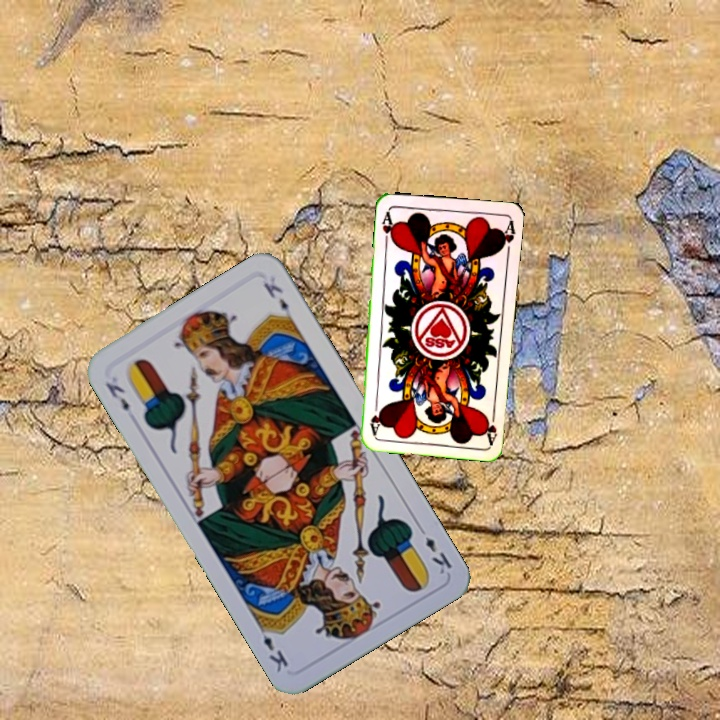EK: (414, 521, 454, 577), (101, 378, 132, 414)
HA: (480, 405, 500, 446), (377, 207, 397, 247)
